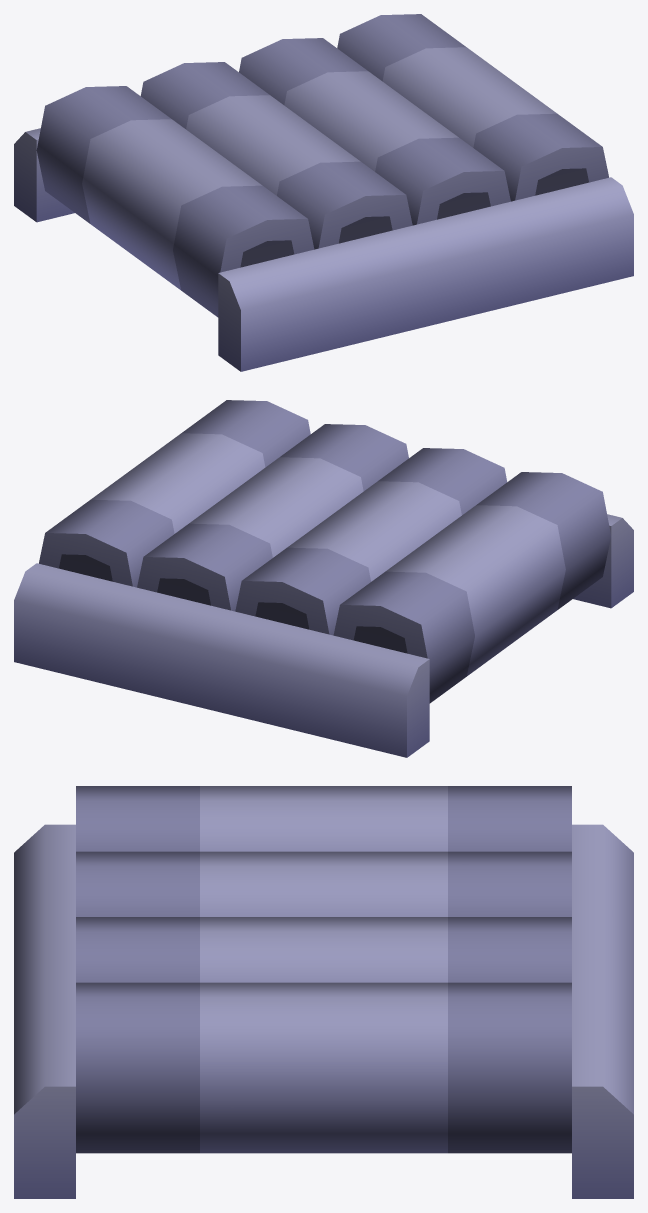
File: kenney-factory-conveyor-bars-stripe-side.glb
3 views of the same model, one above another, from view 1: azimuth 30°, elevation 25°; view 2: azimuth 150°, elevation 25°; view 3: azimuth 270°, elevation 25° (orthographic). The views are drawn at different scales.
Parts seen in each view (by area): view 1: conveyor-bars-stripe-side; view 2: conveyor-bars-stripe-side; view 3: conveyor-bars-stripe-side.
Boxes of the visible parts, x1=… form: conveyor-bars-stripe-side: x1=14, y1=14, x2=633, y2=371; conveyor-bars-stripe-side: x1=14, y1=400, x2=633, y2=757; conveyor-bars-stripe-side: x1=14, y1=786, x2=633, y2=1198.
Size of the model in its own units: 1.5 by 0.45 by 1.5.
1 material, 1 textured.
